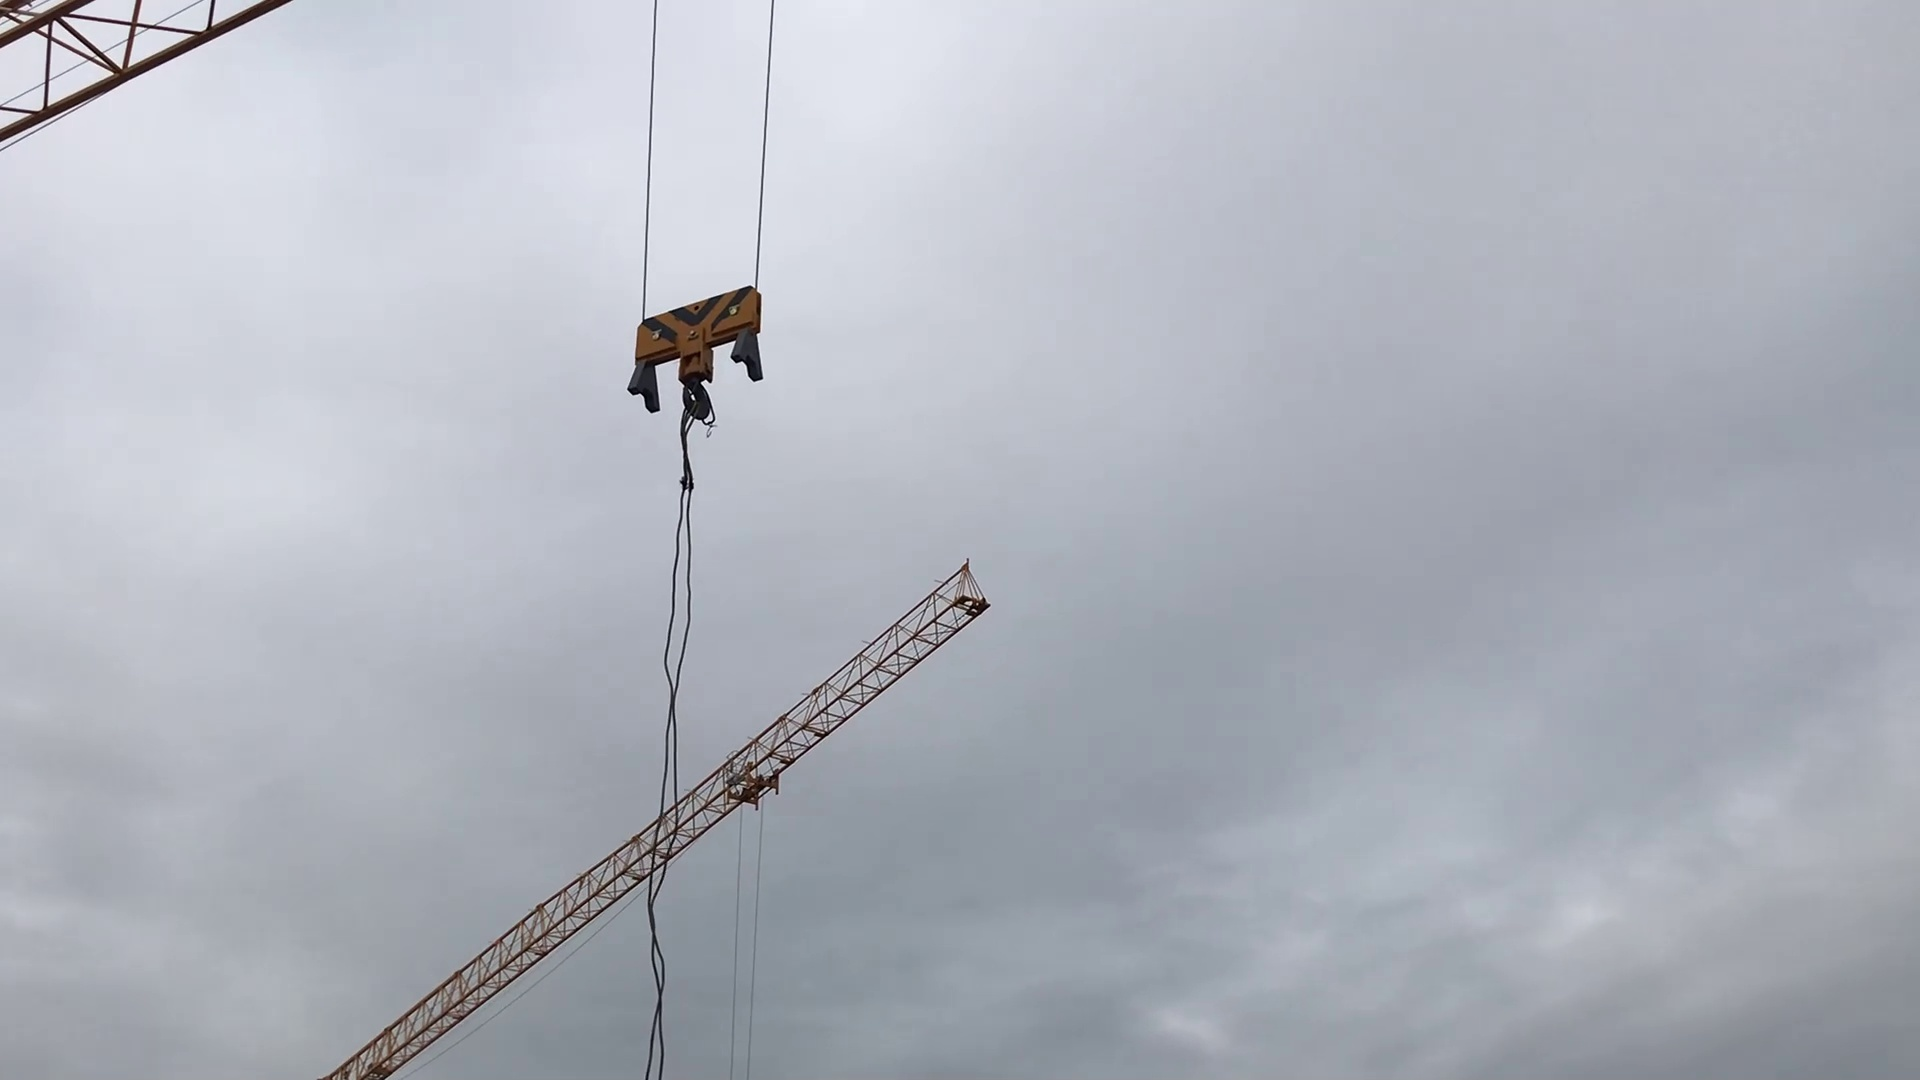hook: (630, 280, 774, 452)
